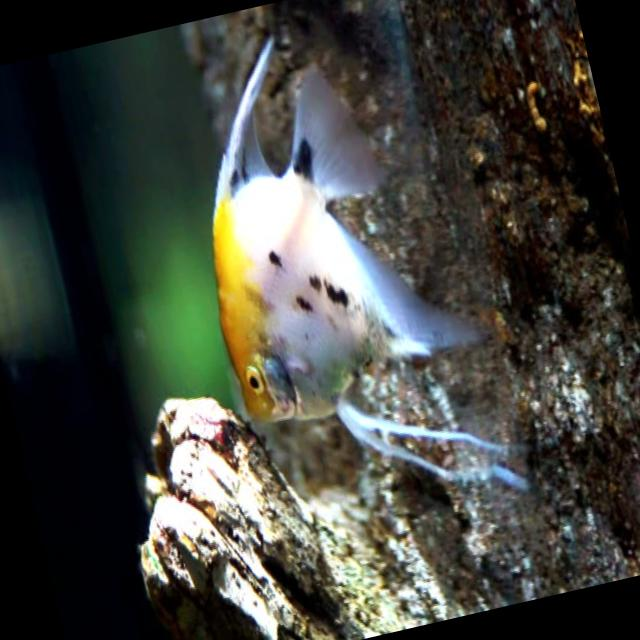AngelFish: (161, 0, 526, 541)
